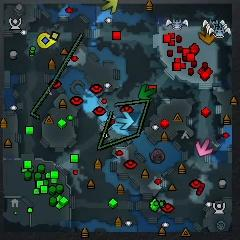p4: (36, 33, 57, 49)
x1: (196, 139, 212, 157)
x2: (102, 0, 120, 14)
x3: (114, 112, 134, 130)
x4: (138, 84, 156, 102)
x5: (198, 29, 216, 44)
